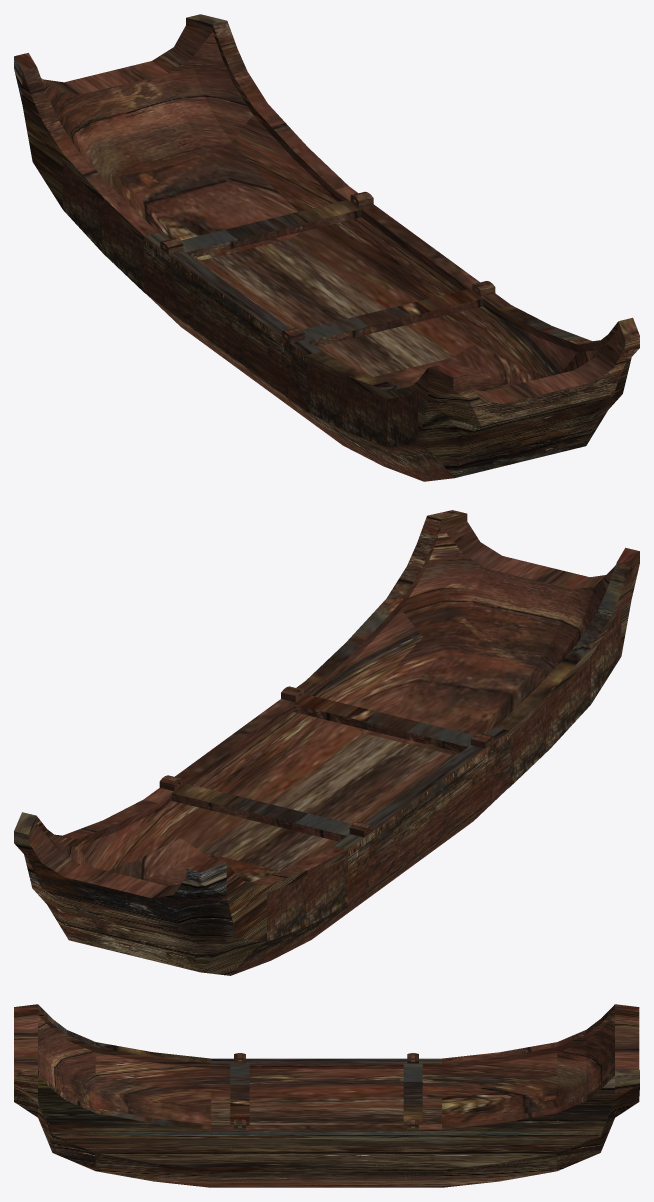
Rendered from boat.fbx.
3 renders of one model, top to bottom at view 1: azimuth 30°, elevation 25°; view 2: azimuth 150°, elevation 25°; view 3: azimuth 270°, elevation 25°, orthographic. The views are drawn at different scales.
Parts seen in each view (by area): view 1: Cube; view 2: Cube; view 3: Cube.
Boxes of the visible parts, <box> form: Cube: <box>14,14,639,481</box>; Cube: <box>14,510,639,975</box>; Cube: <box>14,1004,639,1187</box>.
Size of the model in its own units: 700 by 574 by 2603.
1 material, 1 textured.
